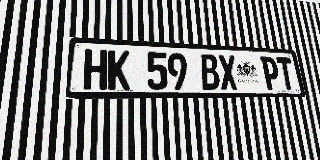5: (146, 51, 168, 90)
9: (167, 52, 189, 90)
B: (199, 54, 221, 90)
H: (83, 49, 107, 90)
K: (108, 50, 130, 90)
P: (260, 57, 281, 90)
T: (276, 57, 296, 90)
X: (217, 55, 239, 90)
